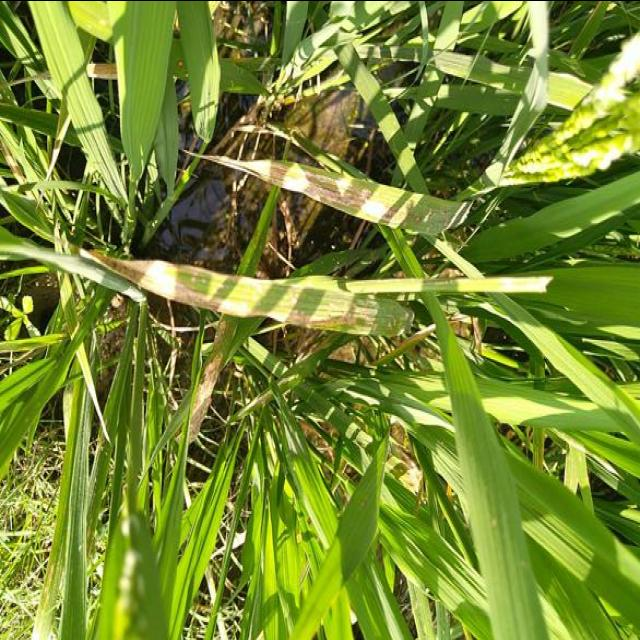Leaf Streak: (87, 250, 411, 335), (178, 149, 471, 234), (189, 319, 239, 441)
